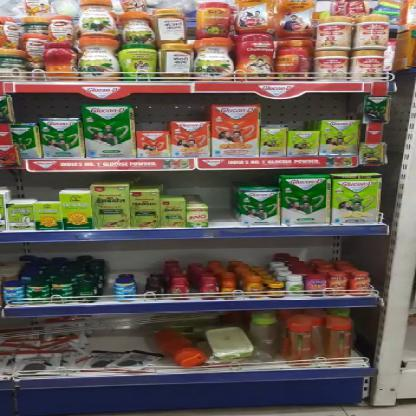Glucon D Nimbu Pani 1-KG: (333, 174, 382, 224), (320, 119, 362, 156)
Glucon D Regular 1-KG: (80, 108, 132, 158)
Glucon D Tangy orange 1-KG: (208, 102, 260, 160)
